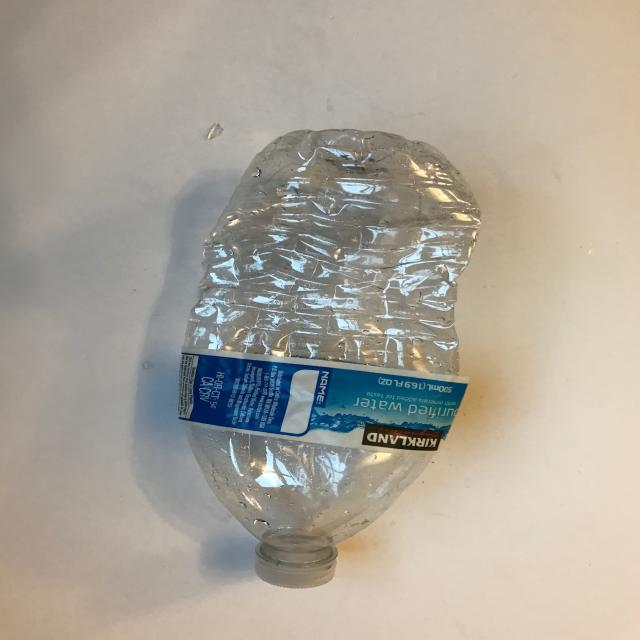plastic: (176, 127, 481, 587)
